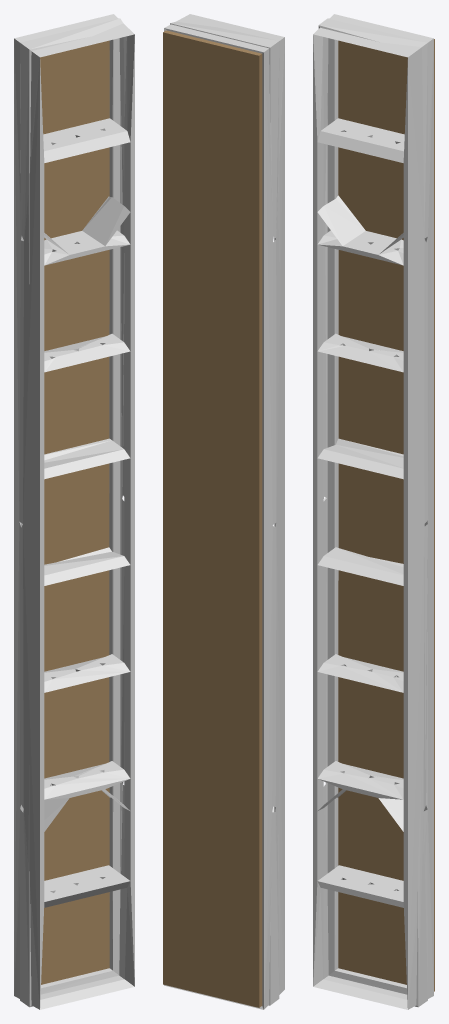
3 renders of one model, left to right at view 1: azimuth 30°, elevation 25°; view 2: azimuth 150°, elevation 25°; view 3: azimuth 330°, elevation 25°, orthographic.
Parts seen in each view (by area): view 1: 27304205; view 2: 27304205; view 3: 27304205.
Part boxes in pixels (left/top/right/bottom): 27304205: left=14, top=14, right=134, bottom=1009; 27304205: left=163, top=14, right=284, bottom=1009; 27304205: left=313, top=14, right=434, bottom=1009.
Size of the model in its own units: 0.305 by 2.7 by 0.1307.
